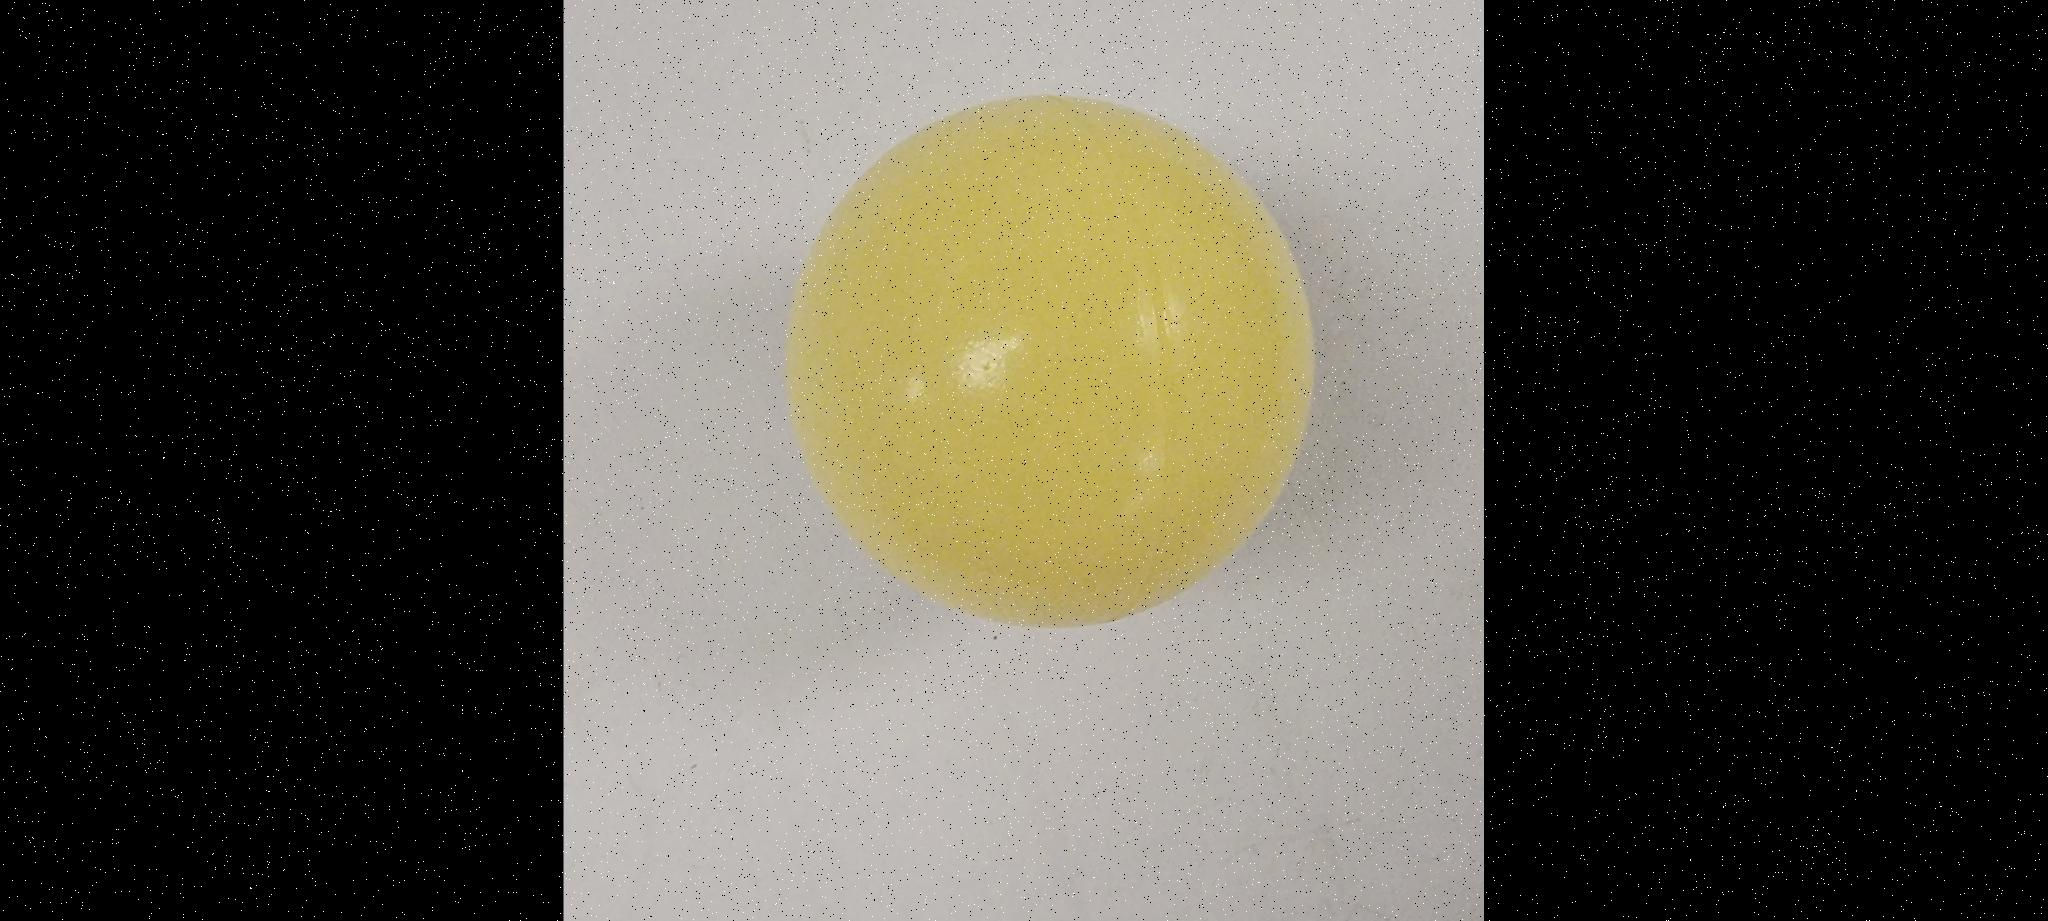Yellow-Ball: (563, 0, 825, 195)
